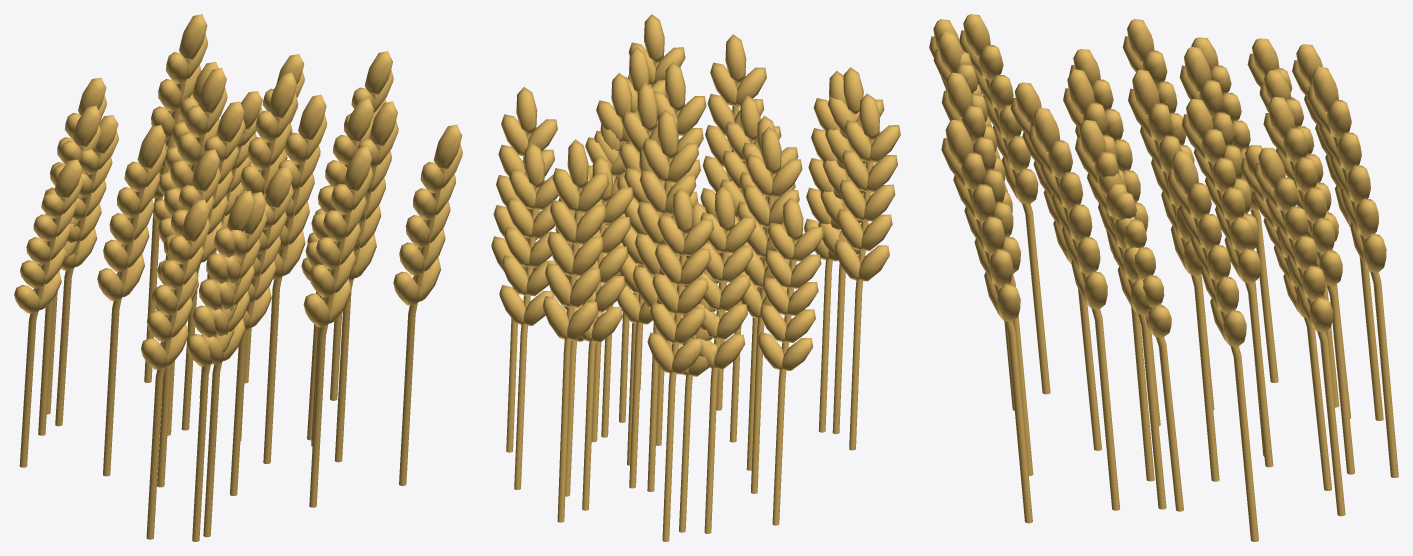
The model's file is Wheat.fbx.
The picture shows the model from 3 angles, left to right: view 1: azimuth 30°, elevation 25°; view 2: azimuth 150°, elevation 25°; view 3: azimuth 270°, elevation 25°; orthographic projection. The views are drawn at different scales.
Parts seen in each view (by area): view 1: Grid; view 2: Grid; view 3: Grid.
Boxes of the visible parts, <box> form: Grid: <box>14,14,462,541</box>; Grid: <box>491,14,900,541</box>; Grid: <box>929,14,1398,541</box>.
Bounding box in the file's own units: 227 × 236 × 239.
